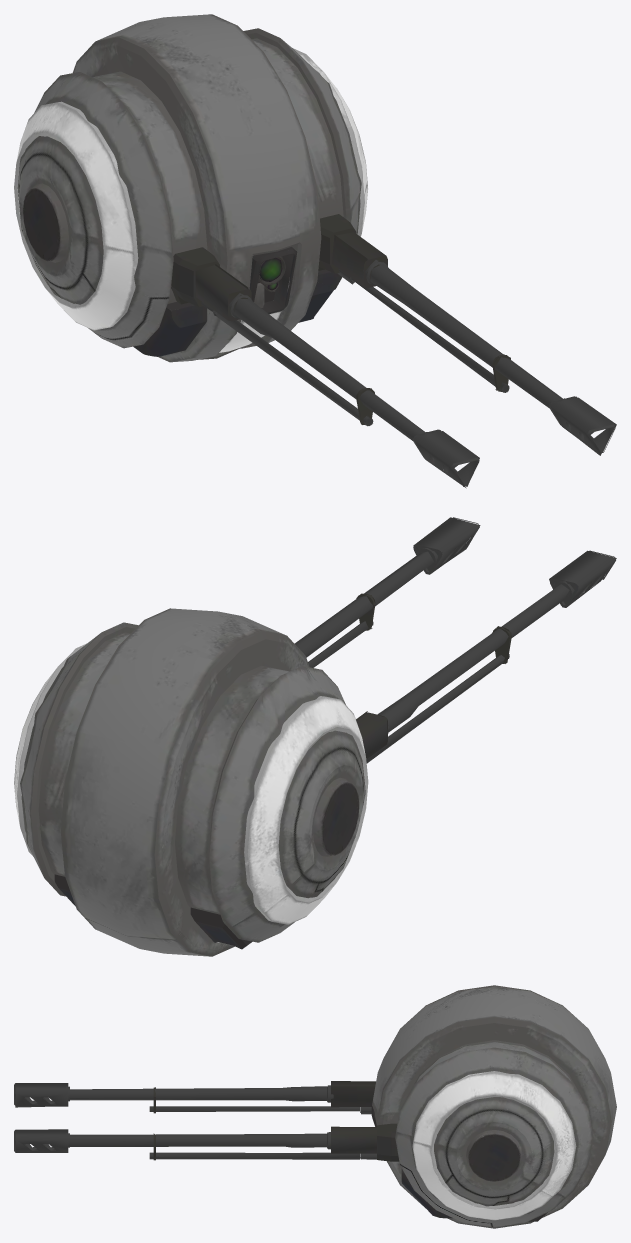
The model's file is drop_gun.glb.
3 renders of one model, top to bottom at view 1: azimuth 30°, elevation 25°; view 2: azimuth 150°, elevation 25°; view 3: azimuth 270°, elevation 25°, orthographic. The views are drawn at different scales.
Visible parts, largest first — view 1: drop_gun; view 2: drop_gun; view 3: drop_gun.
Boxes of the visible parts, x1,y1,x2,y2 form: drop_gun: [14, 14, 616, 488]; drop_gun: [14, 517, 616, 956]; drop_gun: [14, 985, 616, 1228].
Size of the model in its own units: 1.58 by 1.61 by 3.95.
1 material, 1 textured.
